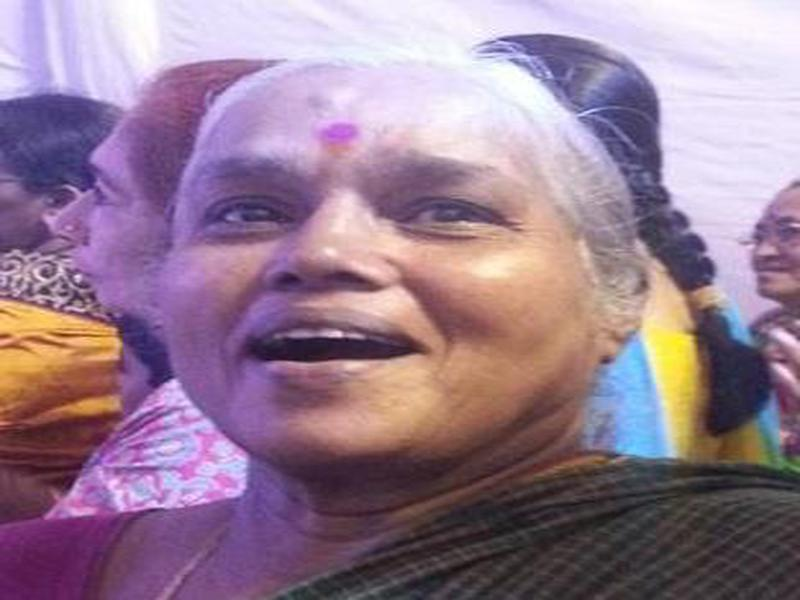without_mask: (170, 112, 555, 476)
